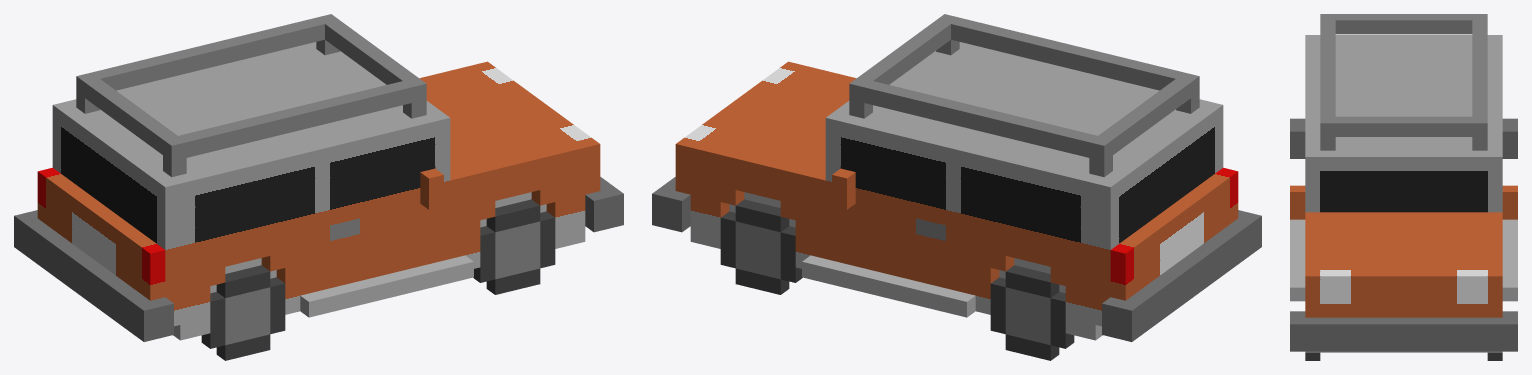
The model's file is veh_suv1.fbx.
3 renders of one model, left to right at view 1: azimuth 30°, elevation 25°; view 2: azimuth 150°, elevation 25°; view 3: azimuth 270°, elevation 25°, orthographic. The views are drawn at different scales.
Visible parts, largest first — view 1: veh_suv1; view 2: veh_suv1; view 3: veh_suv1.
Boxes of the visible parts, bbox=[...] form: veh_suv1: bbox=[14, 14, 623, 360]; veh_suv1: bbox=[652, 14, 1261, 360]; veh_suv1: bbox=[1290, 14, 1517, 360].
Bounding box in the file's own units: 3.2 × 1.5 × 1.4.
1 material, 1 textured.
